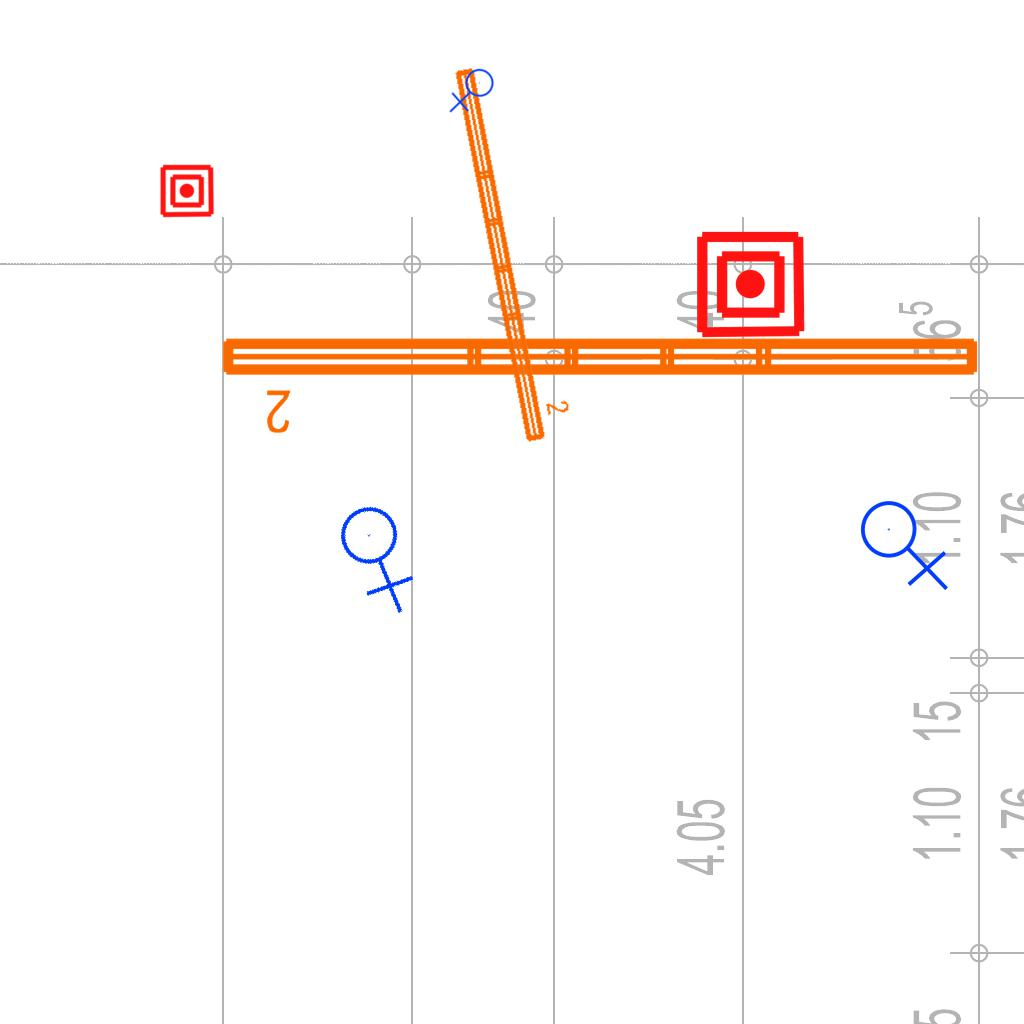Ambulanz_Pendelleuchte_LED: (214, 326, 988, 438), (448, 56, 577, 448)
Elektroanschluss_allgemein_230V_Geraeteanschlussdose_230V: (318, 489, 443, 617), (859, 492, 953, 591), (449, 68, 498, 115)
NAM-Nichtautomatischer_Melder: (694, 228, 807, 341), (159, 163, 215, 219)
